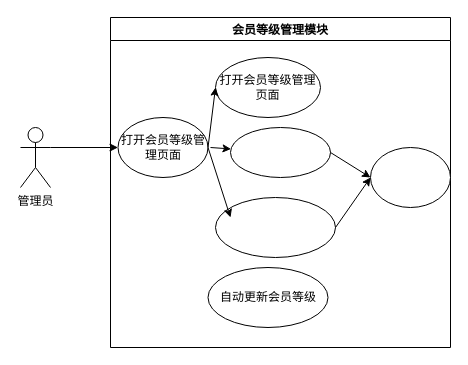
Some shapes in this 468 by 365 pixel diagram are drawn without their labels. Each missing label, with the centre of its shape:
创建会员等级: [280,152]
更新会员等级: [275,227]
检查等级设置: [410,177]
